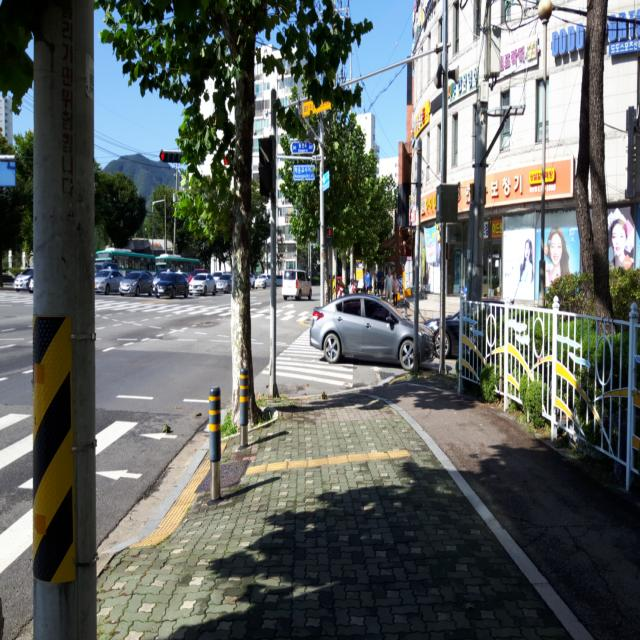빨간불: (327, 227, 332, 247)
횡단보도: (260, 316, 360, 388)
